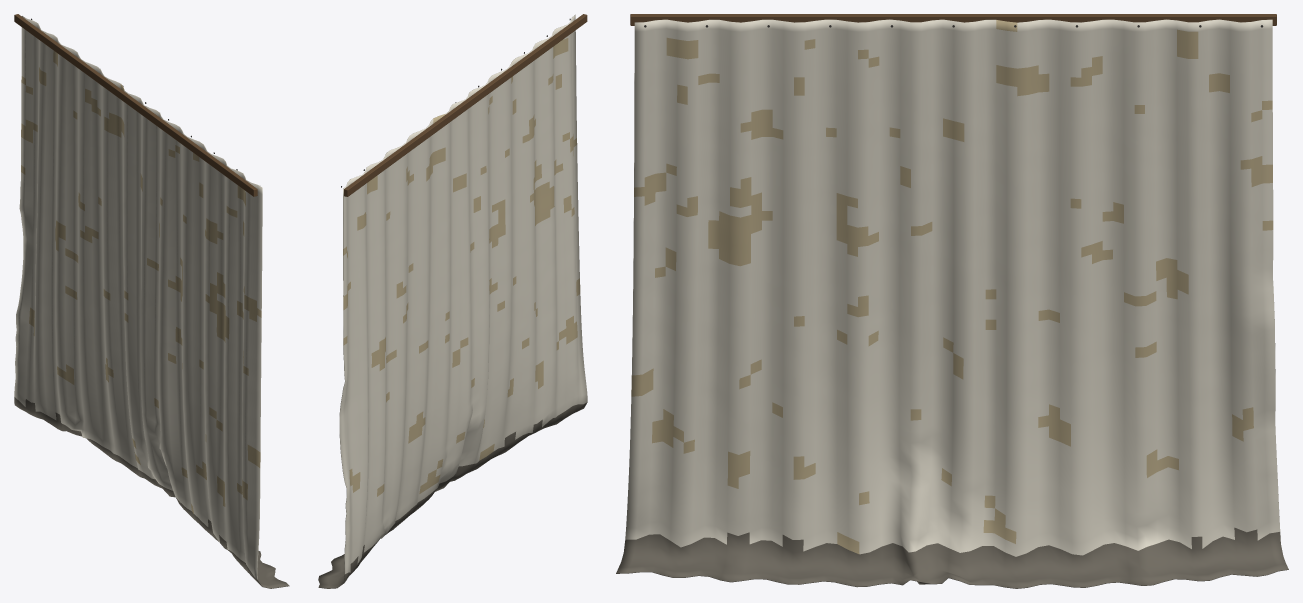
Rendered from canvas_wall.glb.
3 views of the same model, side by side, from view 1: azimuth 30°, elevation 25°; view 2: azimuth 150°, elevation 25°; view 3: azimuth 270°, elevation 25° (orthographic). The views are drawn at different scales.
Visible parts, largest first — view 1: tuch, latte; view 2: tuch, latte; view 3: tuch, latte.
Part boxes in pixels (<box>): tuch: <box>14,16,289,588</box>; latte: <box>14,14,257,196</box>; tuch: <box>318,14,587,588</box>; latte: <box>344,14,587,196</box>; tuch: <box>616,19,1288,588</box>; latte: <box>630,14,1276,25</box>.
Bounding box in the file's own units: 0.3977 × 2.8 × 3.16.
